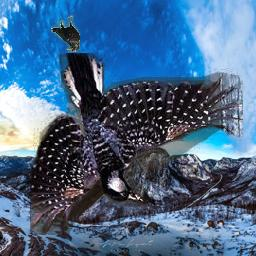Crow: (52, 16, 81, 53)
Woodpecker: (31, 53, 244, 235)
